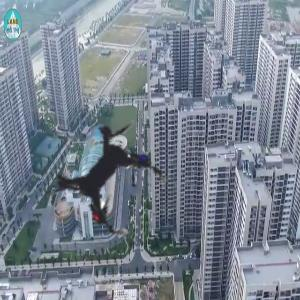drone: (5, 68, 213, 276)
